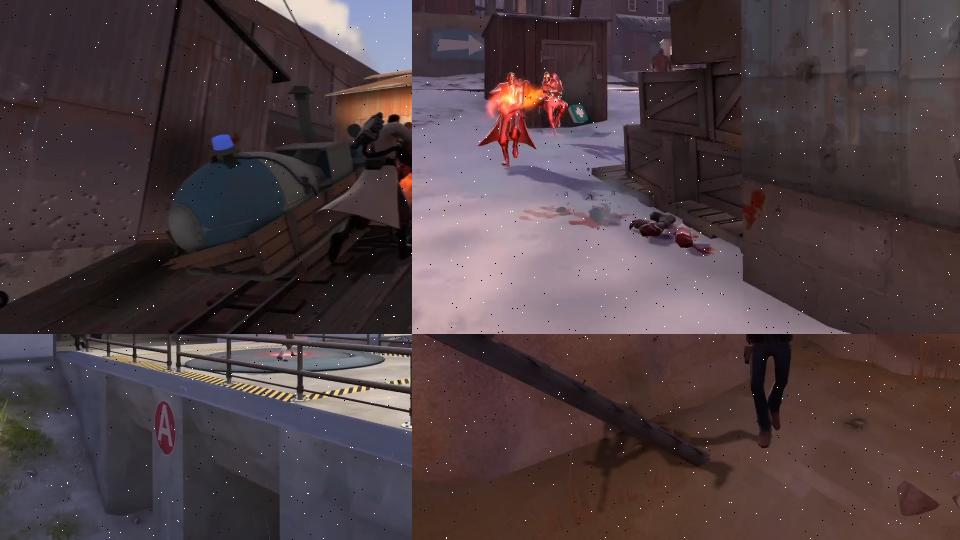Enemy: (310, 111, 412, 265), (721, 334, 816, 453), (478, 72, 533, 168), (537, 71, 569, 137), (273, 334, 304, 361), (56, 334, 102, 350)
